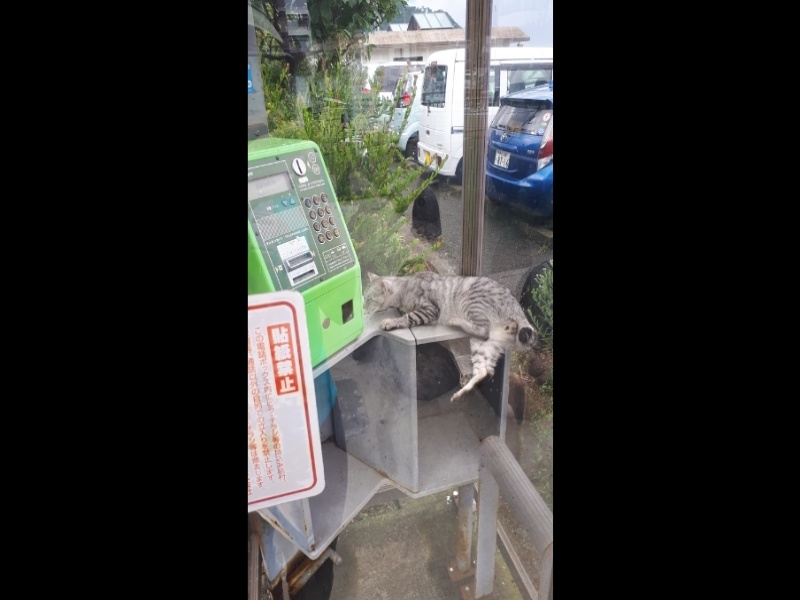cat: (363, 258, 536, 400)
